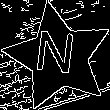N_S: (35, 29, 82, 85)
